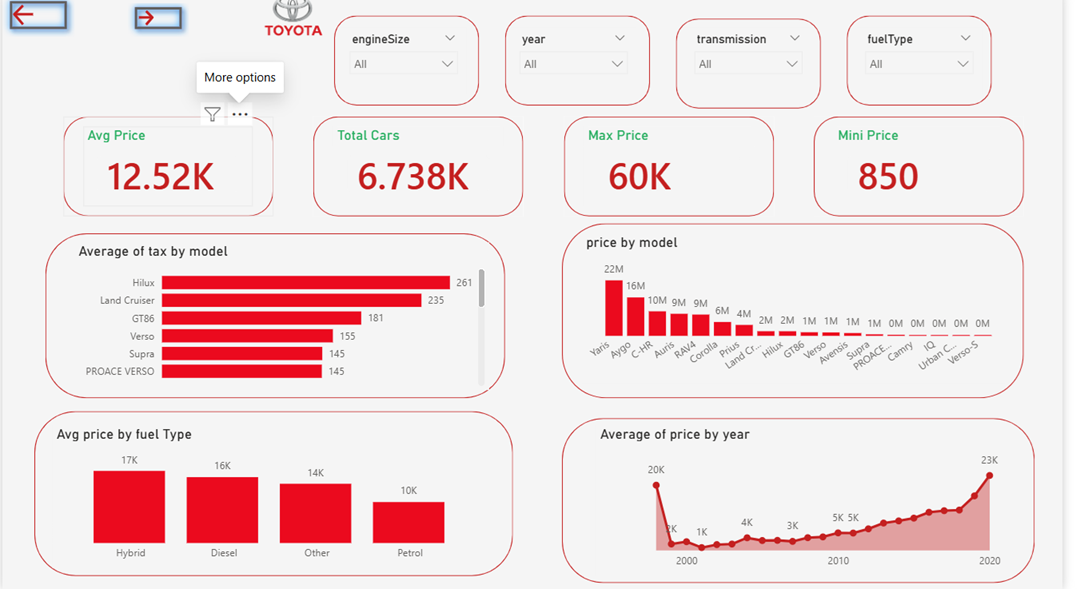

The page's visual inventory and layout, read from the dashboard file:
{"tool":"powerbi","page":{"name":"Price Analysis","canvas":[1280,720],"ordinal":3},"visuals":[{"type":"shape","box":[606.8,26.5,174.9,108.6],"z":0,"group":"g11"},{"type":"shape","box":[1019.4,26.5,174.9,108.6],"z":0,"group":"g9"},{"type":"shape","box":[813.1,30.2,174.9,108.6],"z":0,"group":"g10"},{"type":"group","id":"g1","title":"Group 1","box":[73.6,148.4,254.6,120.6],"z":0},{"type":"shape","box":[73.6,148.4,253.6,120.6],"z":0,"group":"g1"},{"type":"shape","box":[375.6,148.4,253.6,120.6],"z":0,"group":"g3"},{"type":"shape","box":[677.6,148.4,253.6,120.6],"z":0,"group":"g2"},{"type":"shape","box":[979.6,148.4,253.6,120.6],"z":0,"group":"g4"},{"type":"shape","box":[675.6,277.5,557.4,211.1],"z":0,"group":"g5"},{"type":"shape","box":[51.9,289.5,555,199.1],"z":0,"group":"g6"},{"type":"shape","box":[38.6,504.3,577.9,199.1],"z":0,"group":"g7"},{"type":"shape","box":[675.6,512.7,570.6,199.1],"z":0,"group":"g8"},{"type":"image","box":[294.4,0,114.6,51.9],"z":1000},{"type":"slicer","fields":{"Values":["toyota.year"]},"box":[614,41,150.8,79.6],"z":1000,"group":"g11"},{"type":"slicer","fields":{"Values":["toyota.fuelType"]},"box":[1031.5,41,150.8,79.6],"z":1000,"group":"g9"},{"type":"slicer","fields":{"Values":["toyota.transmission"]},"box":[825.2,41.1,150.8,79.6],"z":1000,"group":"g10"},{"type":"cardVisual","title":"Avg Price","fields":{"Data":["Avg(toyota.price)"]},"box":[97.4,160.8,206,95.8],"z":1000,"group":"g1"},{"type":"cardVisual","title":"Total Cars","fields":{"Data":["CountNonNull(toyota.model)"]},"box":[399.4,160.8,206,95.8],"z":1000,"group":"g3"},{"type":"cardVisual","title":"Max Price","fields":{"Data":["Max(toyota.price)"]},"box":[701.4,160.8,206,95.8],"z":1000,"group":"g2"},{"type":"cardVisual","title":"Mini Price","fields":{"Data":["Min(toyota.price)"]},"box":[1003.4,160.8,206,95.8],"z":1000,"group":"g4"},{"type":"columnChart","title":" price by model","fields":{"Y":["Sum(toyota.price)"],"Category":["toyota.model"]},"box":[699.7,289.6,510.3,181],"z":1000,"group":"g5"},{"type":"barChart","fields":{"Category":["toyota.model"],"Y":["Avg(toyota.tax)"]},"box":[86.9,300.4,500.7,178.6],"z":1000,"group":"g6"},{"type":"lineChart","fields":{"Category":["toyota.year"],"Y":["Avg(toyota.price)"]},"box":[716.6,521.1,493.4,182.2],"z":1000,"group":"g8"},{"type":"columnChart","title":"Avg price by fuel Type","fields":{"Category":["toyota.fuelType"],"Y":["Avg(toyota.price)"]},"box":[60.3,521.2,527.2,172.5],"z":1000,"group":"g7"},{"type":"actionButton","box":[0,0,86.9,51.9],"z":2000},{"type":"actionButton","box":[150.8,7.2,74.8,44.6],"z":3000},{"type":"group","id":"g2","title":"Group 1","box":[677.6,148.4,254.6,120.6],"z":4000},{"type":"group","id":"g3","title":"Group 1","box":[375.6,148.4,254.6,120.6],"z":5000},{"type":"group","id":"g4","title":"Group 1","box":[979.6,148.4,254.6,120.6],"z":6000},{"type":"group","id":"g5","title":"Group 2","box":[675.6,277.5,557.4,211.1],"z":7000},{"type":"group","id":"g6","title":"Group 3","box":[51.9,289.5,555,199.1],"z":8000},{"type":"group","id":"g7","title":"Group 4","box":[38.6,504.3,577.9,199.1],"z":9000},{"type":"group","id":"g8","title":"Group 5","box":[675.6,512.7,570.6,199.1],"z":10000},{"type":"group","id":"g9","title":"Group 6","box":[1019.4,26.5,174.9,108.6],"z":11000},{"type":"shape","box":[400.5,26.5,174.9,108.6],"z":12000,"group":"g12"},{"type":"group","id":"g10","title":"Group 7","box":[813.1,30.2,174.9,108.6],"z":12000},{"type":"slicer","fields":{"Values":["toyota.engineSize"]},"box":[408.9,41,150.8,79.6],"z":12500,"group":"g12"},{"type":"group","id":"g11","title":"Group 8","box":[606.8,26.5,174.9,108.6],"z":13000},{"type":"group","id":"g12","title":"Group 9","box":[400.5,26.5,174.9,108.6],"z":14000}]}

Visuals, with their boxes on the page's 1280x720 design canvas (x1, y1, x2, y2). These are canvas units, not pixel positions in the 1084x598 screenshot, which may show the page scaled, cropped or inside an application window:
shape: box=[607, 26, 782, 135]
shape: box=[1019, 26, 1194, 135]
shape: box=[813, 30, 988, 139]
"Group 1" group: box=[74, 148, 328, 269]
shape: box=[74, 148, 327, 269]
shape: box=[376, 148, 629, 269]
shape: box=[678, 148, 931, 269]
shape: box=[980, 148, 1233, 269]
shape: box=[676, 278, 1233, 489]
shape: box=[52, 290, 607, 489]
shape: box=[39, 504, 616, 703]
shape: box=[676, 513, 1246, 712]
image: box=[294, 0, 409, 52]
slicer - toyota.year: box=[614, 41, 765, 121]
slicer - toyota.fuelType: box=[1032, 41, 1182, 121]
slicer - toyota.transmission: box=[825, 41, 976, 121]
"Avg Price" cardVisual: box=[97, 161, 303, 257]
"Total Cars" cardVisual: box=[399, 161, 605, 257]
"Max Price" cardVisual: box=[701, 161, 907, 257]
"Mini Price" cardVisual: box=[1003, 161, 1209, 257]
" price by model" columnChart: box=[700, 290, 1210, 471]
barChart - toyota.model x Avg(toyota.tax): box=[87, 300, 588, 479]
lineChart - toyota.year x Avg(toyota.price): box=[717, 521, 1210, 703]
"Avg price by fuel Type" columnChart: box=[60, 521, 588, 694]
actionButton: box=[0, 0, 87, 52]
actionButton: box=[151, 7, 226, 52]
"Group 1" group: box=[678, 148, 932, 269]
"Group 1" group: box=[376, 148, 630, 269]
"Group 1" group: box=[980, 148, 1234, 269]
"Group 2" group: box=[676, 278, 1233, 489]
"Group 3" group: box=[52, 290, 607, 489]
"Group 4" group: box=[39, 504, 616, 703]
"Group 5" group: box=[676, 513, 1246, 712]
"Group 6" group: box=[1019, 26, 1194, 135]
shape: box=[400, 26, 575, 135]
"Group 7" group: box=[813, 30, 988, 139]
slicer - toyota.engineSize: box=[409, 41, 560, 121]
"Group 8" group: box=[607, 26, 782, 135]
"Group 9" group: box=[400, 26, 575, 135]
